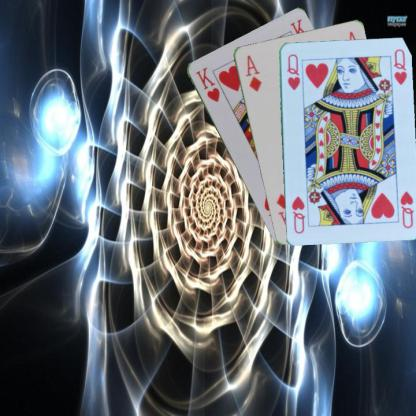Ad: (242, 52, 263, 92)
Kh: (193, 64, 221, 104)
Qh: (397, 188, 415, 230), (284, 51, 302, 91)
